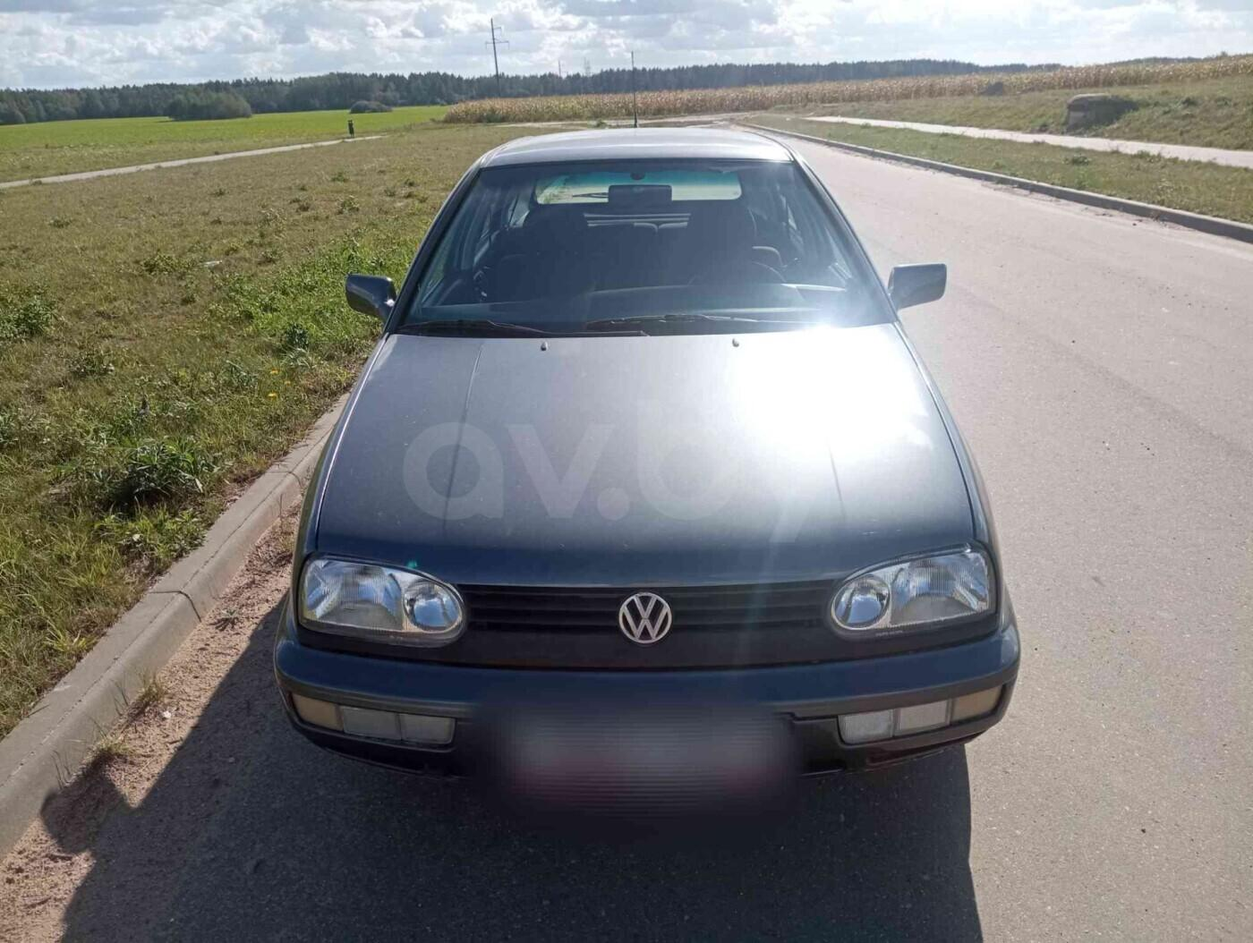Golf_1991-2000: (283, 124, 1019, 800)
